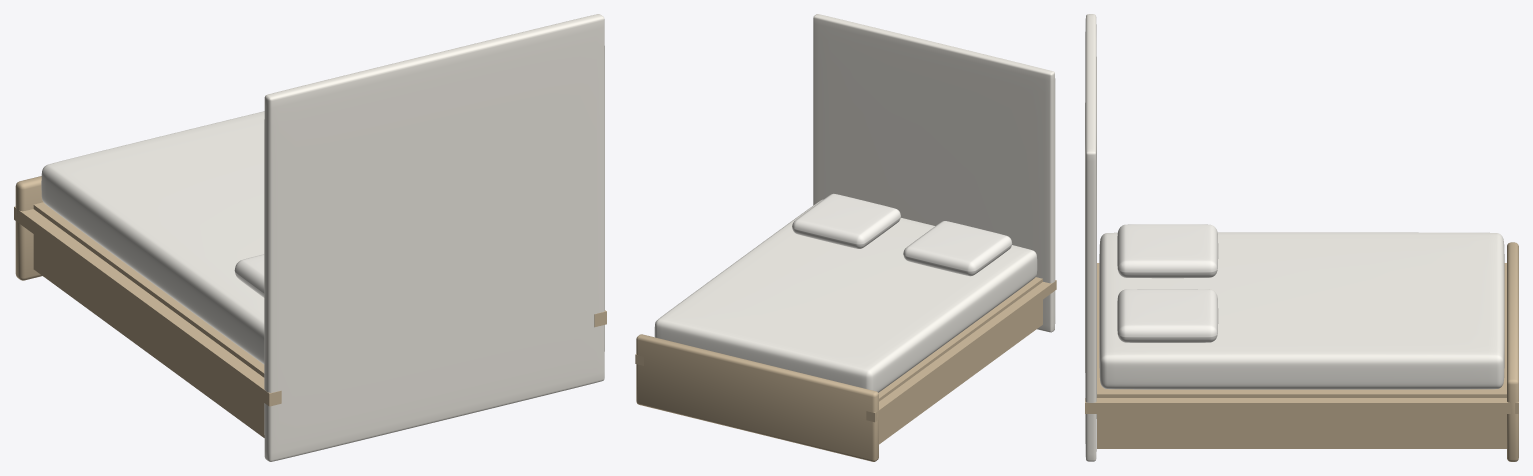
3 views of the same model, side by side, from view 1: azimuth 30°, elevation 25°; view 2: azimuth 150°, elevation 25°; view 3: azimuth 270°, elevation 25° (orthographic). The views are drawn at different scales.
Visible parts, largest first — view 1: Headboard, Mattress, BedFrame, Footboard, Pillow; view 2: Headboard, Mattress, Footboard, BedFrame, Pillow, Pillow.001; view 3: Mattress, BedFrame, Pillow, Pillow.001, Headboard, Footboard.
Part boxes in pixels (x1,y1,x2,y2): Headboard: [264, 14, 604, 461]; Mattress: [41, 111, 264, 364]; BedFrame: [14, 202, 606, 437]; Footboard: [15, 176, 43, 280]; Pillow: [234, 254, 264, 297]; Headboard: [813, 14, 1055, 332]; Mattress: [654, 199, 1037, 392]; Footboard: [636, 334, 878, 461]; BedFrame: [635, 277, 1056, 444]; Pillow: [903, 221, 1012, 276]; Pillow.001: [792, 193, 900, 248]; Mattress: [1099, 232, 1504, 389]; BedFrame: [1085, 263, 1518, 448]; Pillow: [1117, 224, 1218, 278]; Pillow.001: [1117, 289, 1218, 342]; Headboard: [1085, 14, 1096, 461]; Footboard: [1507, 242, 1518, 461].
Bounding box in the file's own units: 1.64 × 1.7 × 2.15.
